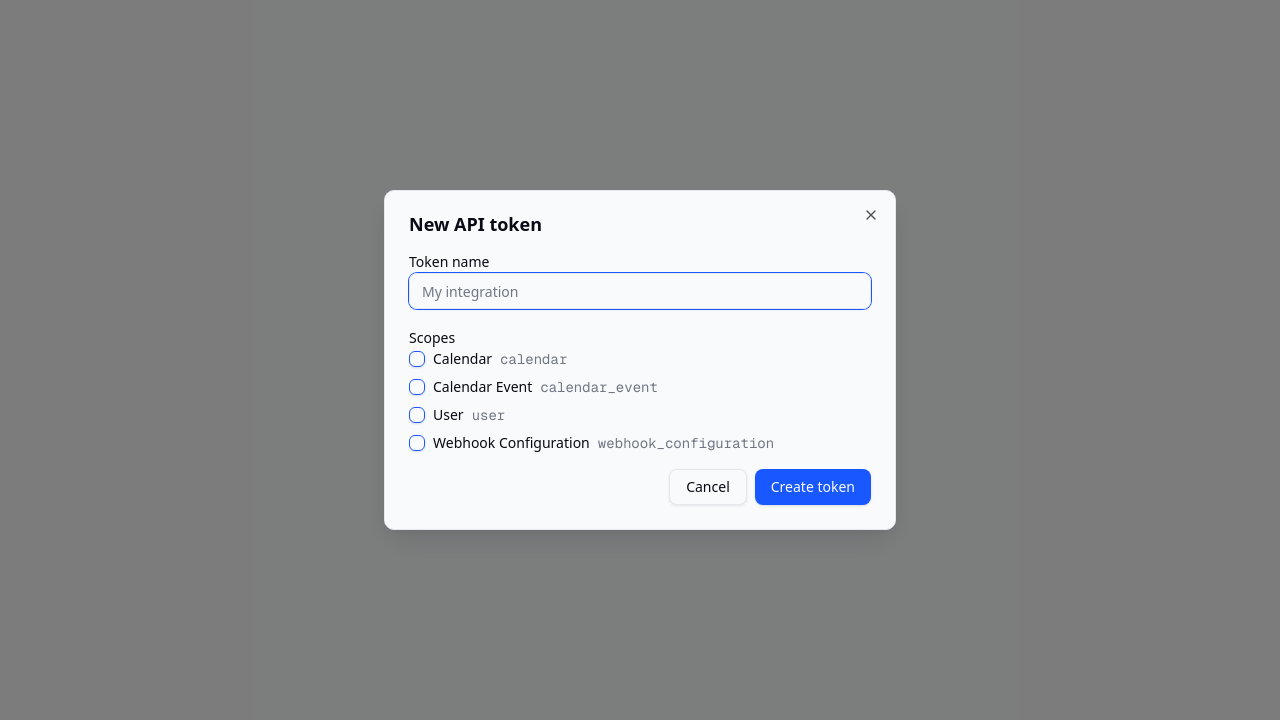
NewTokenDialog › posts the catalog values the user ticked
Type "Catalog Token" into the field with placeholder "My integration". click: [640, 291]
box: [409,273,871,309]
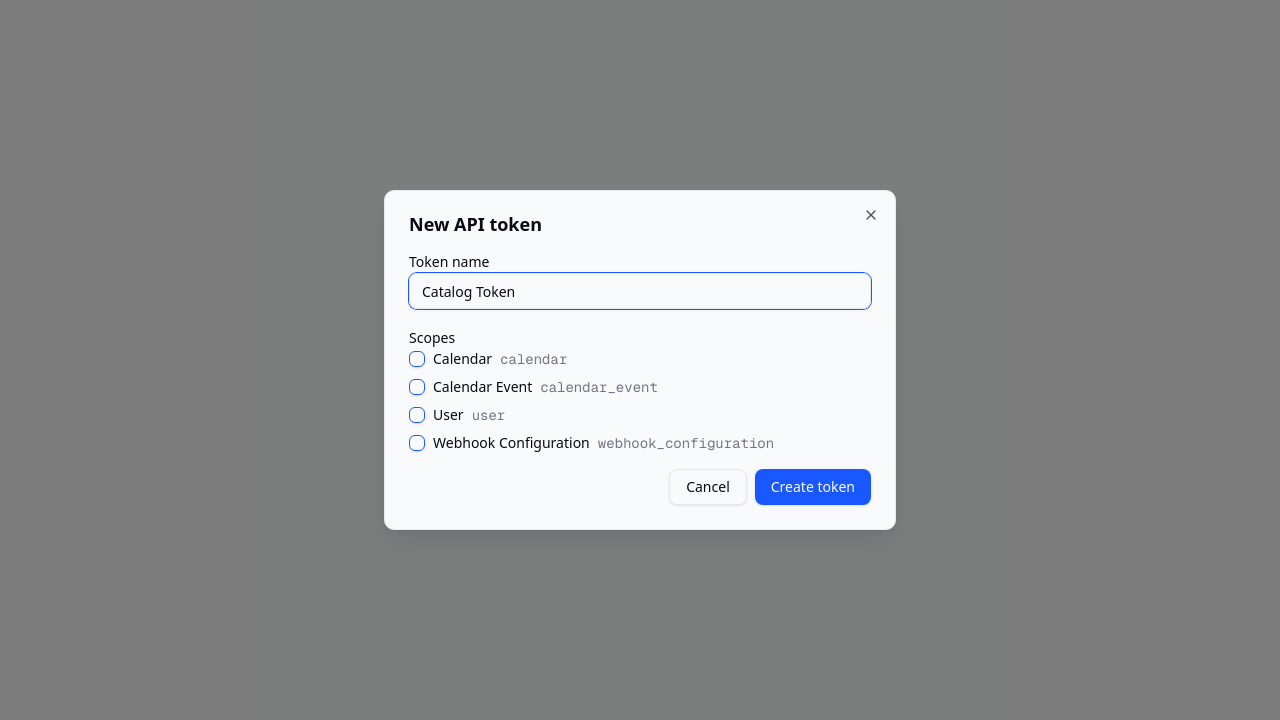
Click the checkbox next to "Webhook Configuration". click: [417, 443]
box: [409,435,425,451]
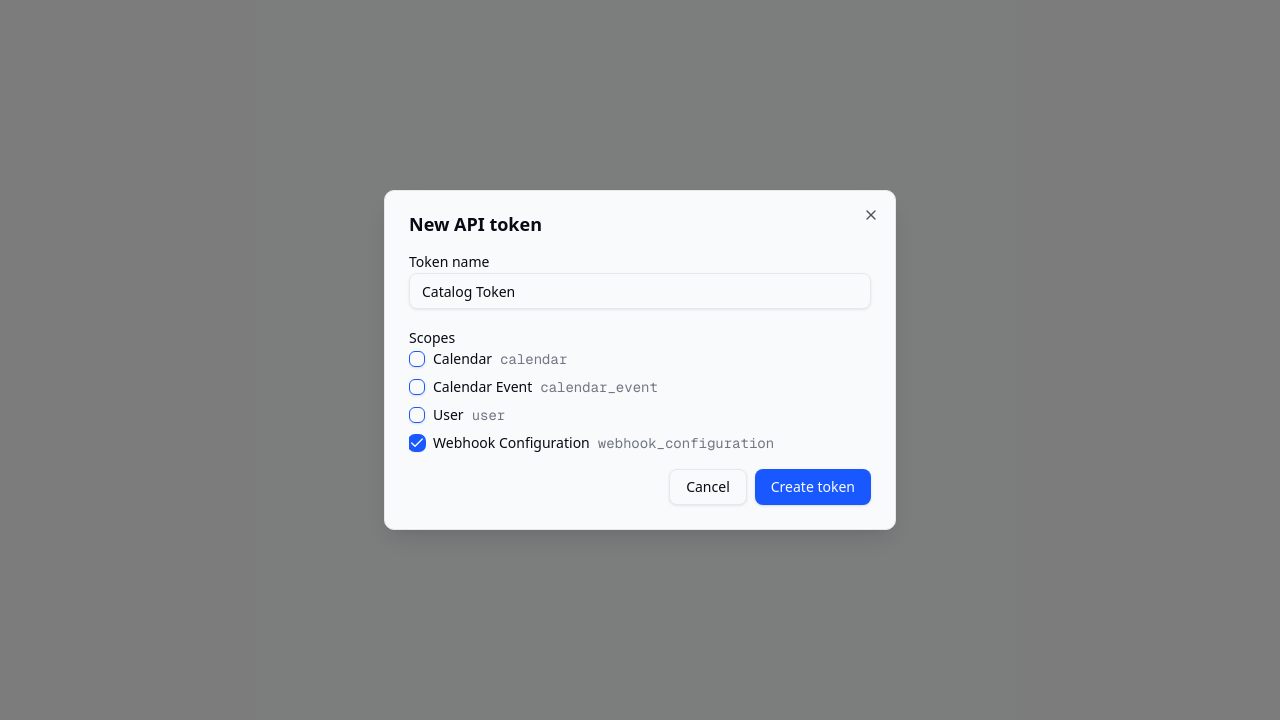
Click the button with test id "create-token-submit". click: [813, 487]
box: [755,469,871,505]
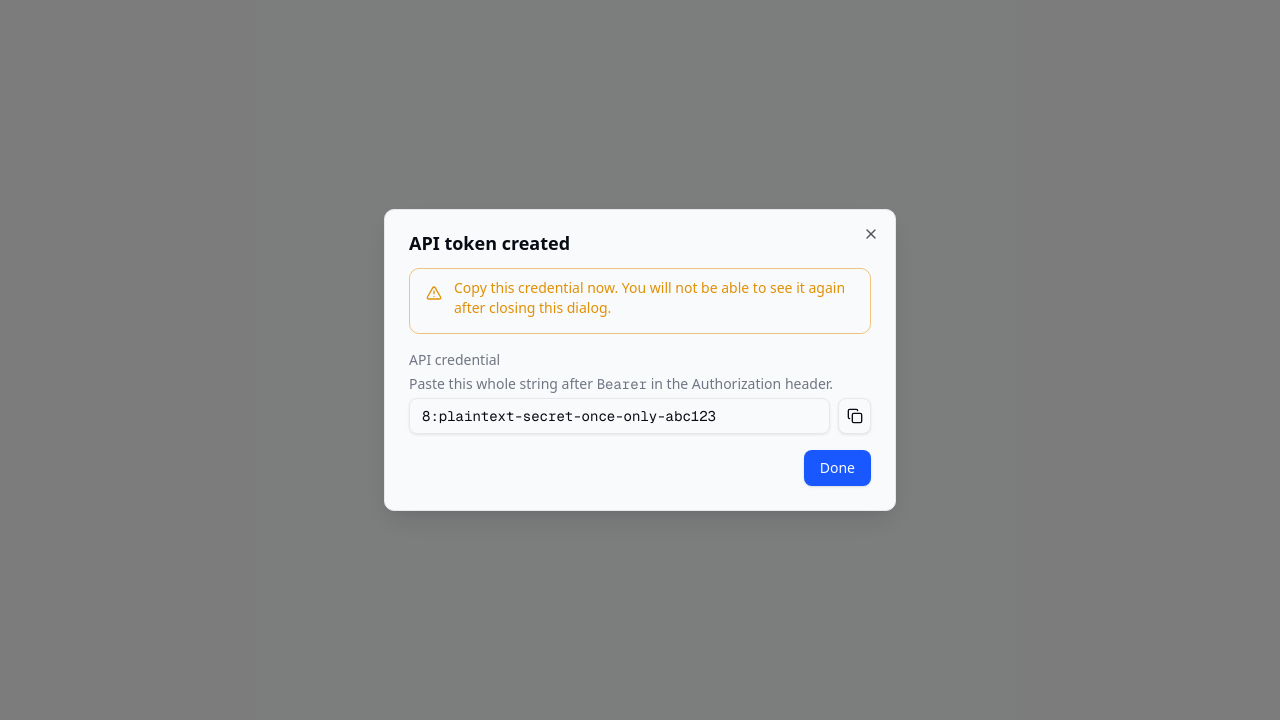
Now the heading "API token created" is shown, box [409,231,570,255]
